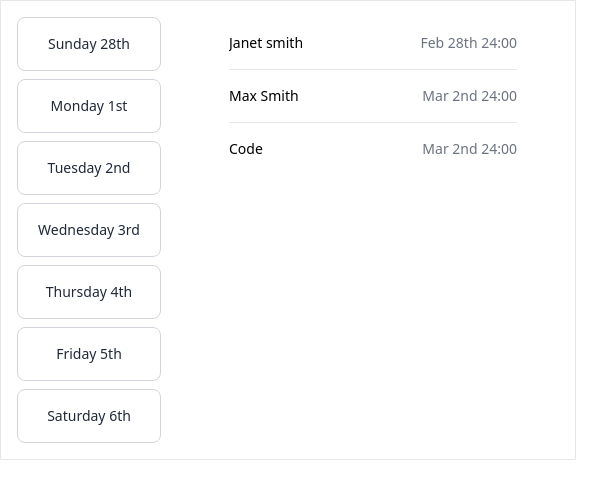
Scenario: Renders single day after click
Click the text "Sunday 28th": click(89, 44) [48,34,130,53]
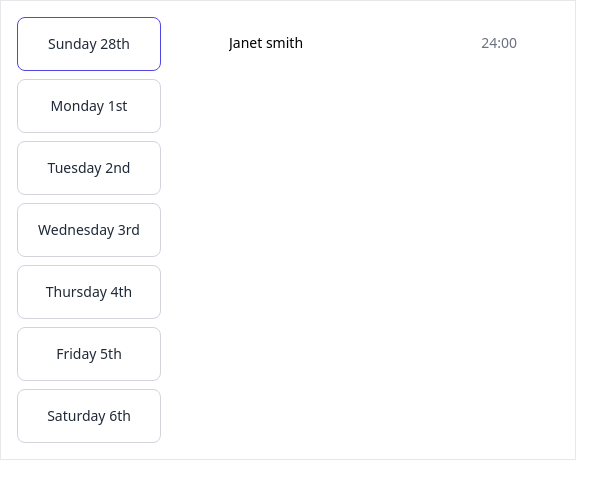
Expected: the heading "Janet smith" is shown, [229,33,303,53]
Result: the heading "Max Smith" is gone
Result: the heading "Code" is gone
